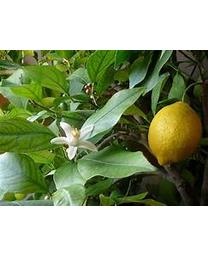lemon: (149, 101, 203, 166)
